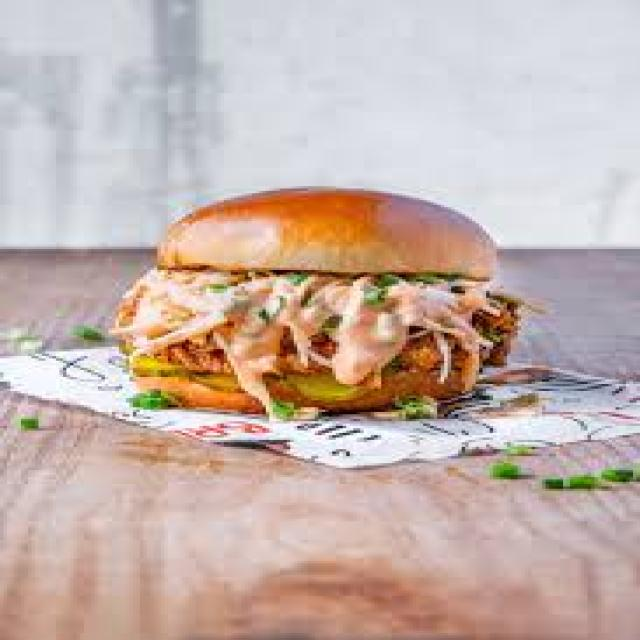Burger: (157, 175, 532, 440)
